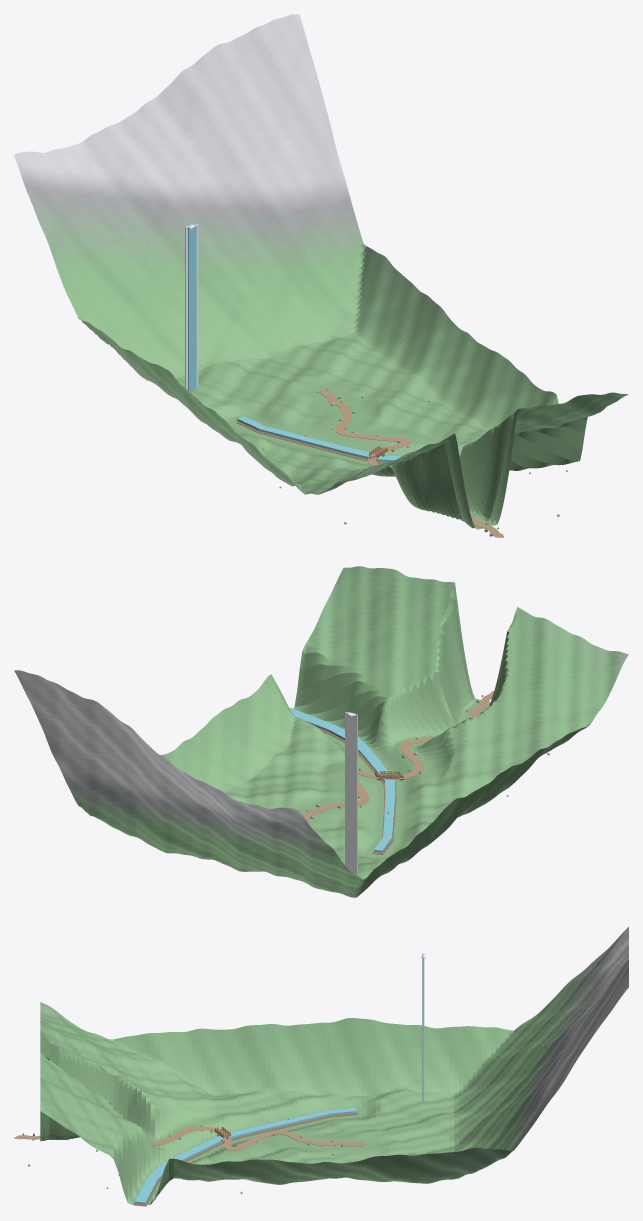
File: landscape.glb
The picture shows the model from 3 angles, top to bottom: view 1: azimuth 30°, elevation 25°; view 2: azimuth 150°, elevation 25°; view 3: azimuth 270°, elevation 25°; orthographic projection. The views are drawn at different scales.
Visible parts, largest first — view 1: Ground, WATER_Waterfall_Main, Waterfall_Spray; view 2: Ground, Waterfall_Spray; view 3: Ground.
Part boxes in pixels (x1=…): Ground: x1=14, y1=14, x2=628, y2=529; WATER_Waterfall_Main: x1=188, y1=224, x2=196, y2=390; Waterfall_Spray: x1=185, y1=224, x2=198, y2=389; Ground: x1=14, y1=566, x2=628, y2=897; Waterfall_Spray: x1=345, y1=712, x2=357, y2=875; Ground: x1=40, y1=927, x2=628, y2=1204.
Bounding box in the file's own units: 101 × 82.16 × 209.
